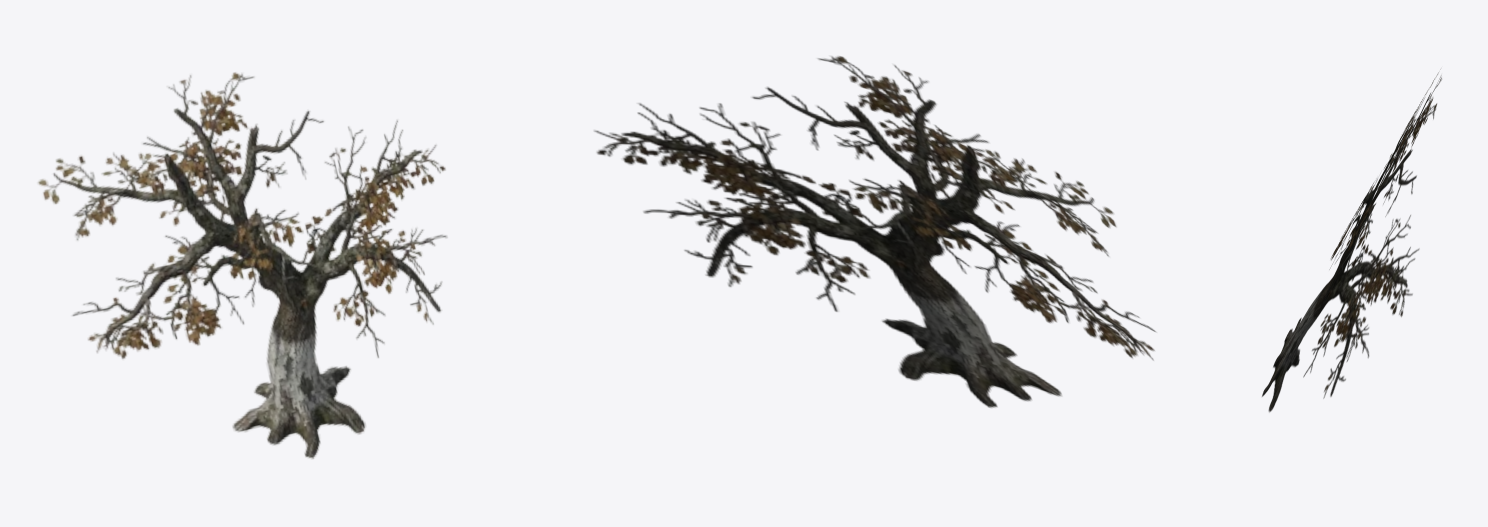
The model's file is autumn_tree_2.glb.
3 renders of one model, left to right at view 1: azimuth 30°, elevation 25°; view 2: azimuth 150°, elevation 25°; view 3: azimuth 270°, elevation 25°, orthographic. The views are drawn at different scales.
Parts seen in each view (by area): view 1: autumn_tree_2; view 2: autumn_tree_2; view 3: autumn_tree_2.
Part boxes in pixels (box(x1,y1,x2,y2)): autumn_tree_2: box(37, 72, 447, 459); autumn_tree_2: box(594, 56, 1156, 407); autumn_tree_2: box(1262, 69, 1441, 412).
Size of the model in its own units: 2.3 by 1.91 by 1.13.
Materials: 1 (1 with a texture image).
